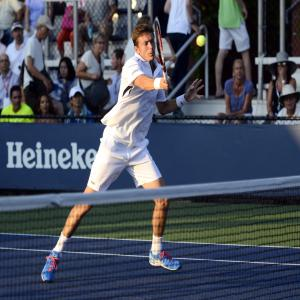TennisBall: (197, 37, 206, 47)
